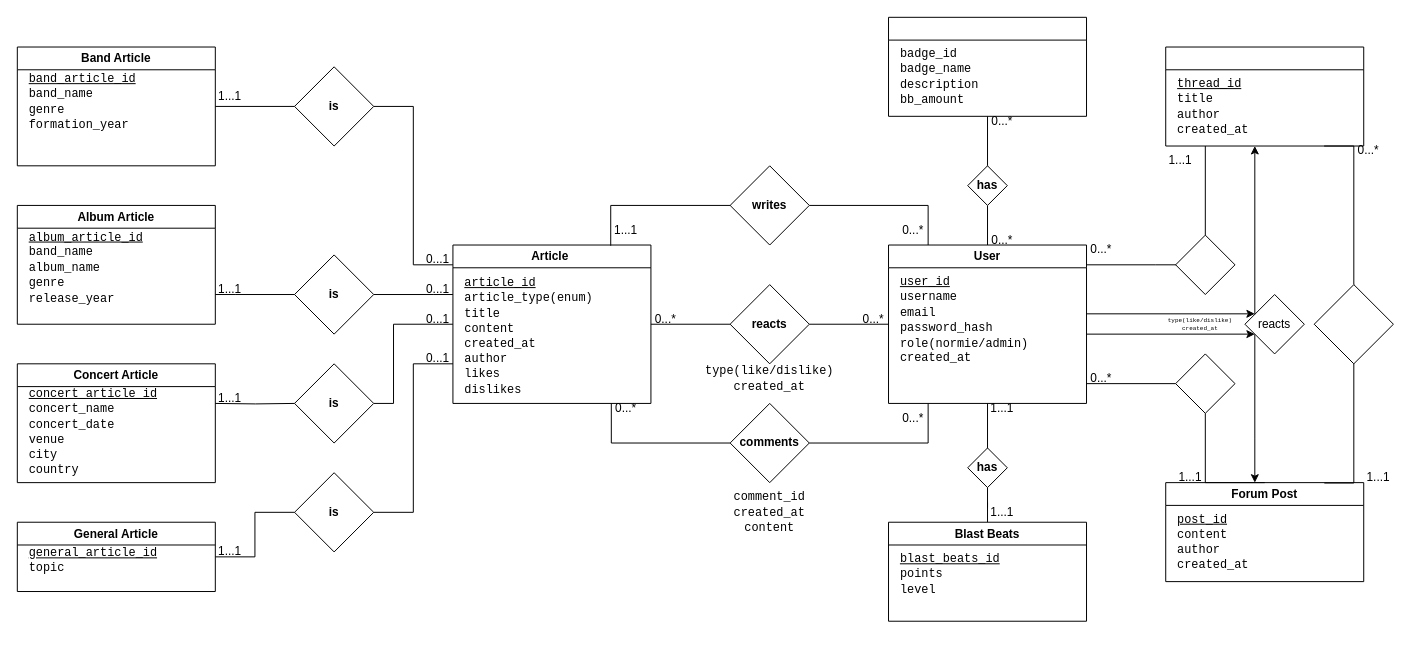
The diagram is 1411 pixels wide and 658 high, and some of its shapes have lost their labels. Here are the shapes that lost their labels. From the top down, the box of each, then its label:
(888, 16, 1087, 116): Badges
(1165, 46, 1364, 146): Forum Thread
(1175, 234, 1235, 295): starts
(1313, 284, 1393, 364): belongs
(1175, 353, 1235, 413): posts
